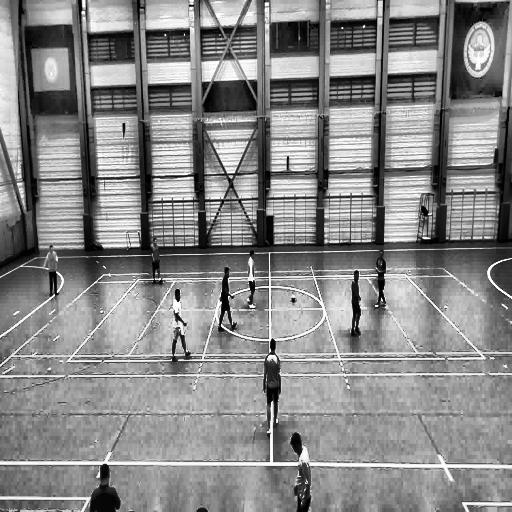ball: (291, 293, 296, 301)
player: (264, 338, 281, 435), (292, 434, 311, 512), (172, 288, 190, 361), (218, 268, 237, 332), (42, 244, 59, 296), (350, 270, 361, 338), (375, 250, 386, 307), (151, 238, 163, 284), (247, 249, 256, 310)
